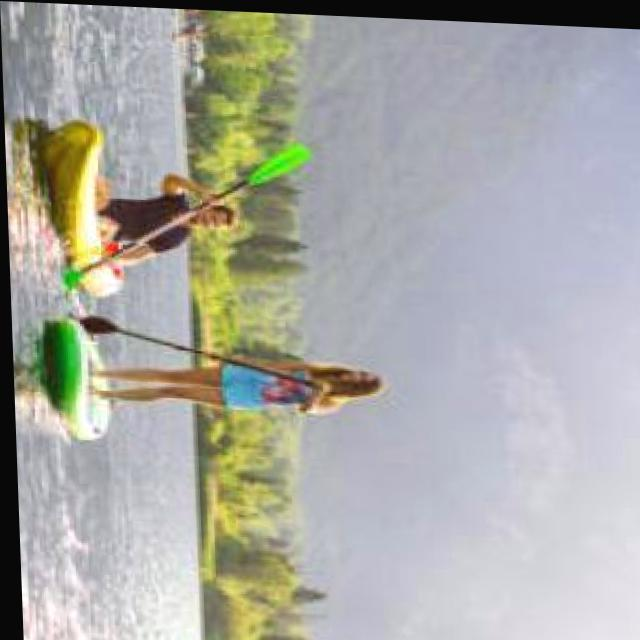kayak: (34, 117, 228, 308), (31, 117, 218, 294), (42, 127, 101, 297)
